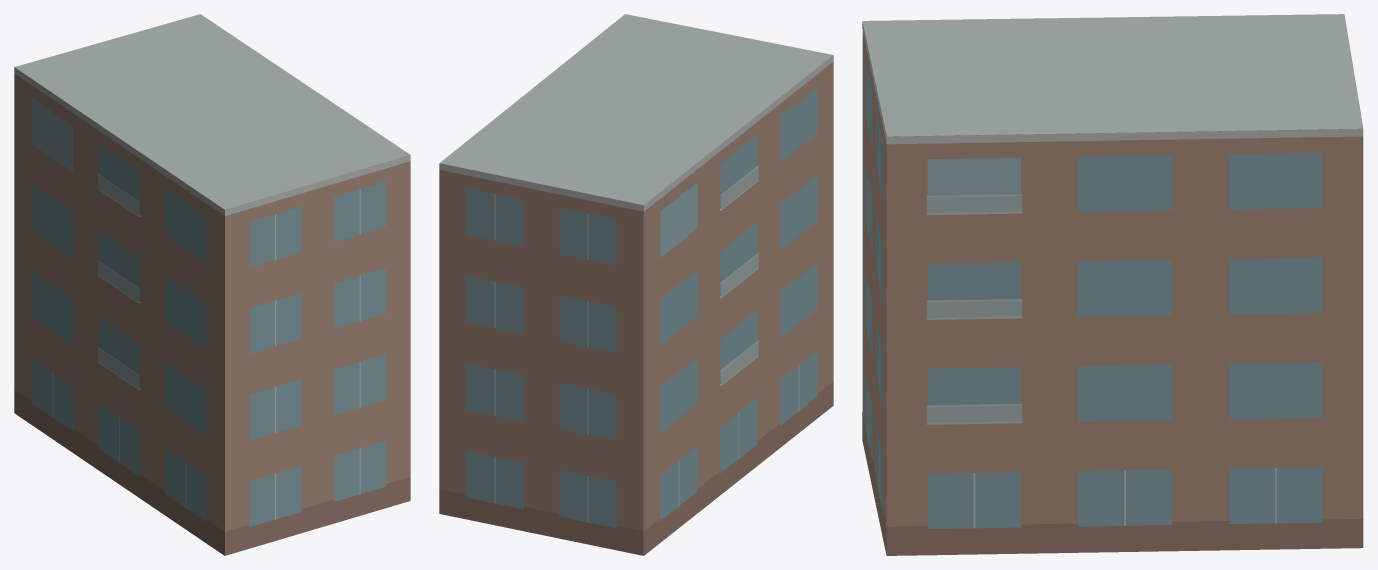
File: survey-upis-33005063.glb
3 renders of one model, left to right at view 1: azimuth 30°, elevation 25°; view 2: azimuth 150°, elevation 25°; view 3: azimuth 270°, elevation 25°, orthographic. The views are drawn at different scales.
Visible parts, largest first — view 1: survey-upis-33005063.tmp; view 2: survey-upis-33005063.tmp; view 3: survey-upis-33005063.tmp.
Part boxes in pixels (x1,y1,x2,y2): survey-upis-33005063.tmp: (14,14,410,555); survey-upis-33005063.tmp: (439,14,833,555); survey-upis-33005063.tmp: (862,14,1363,555).
Bounding box in the file's own units: 8.28 × 13.2 × 14.31.
